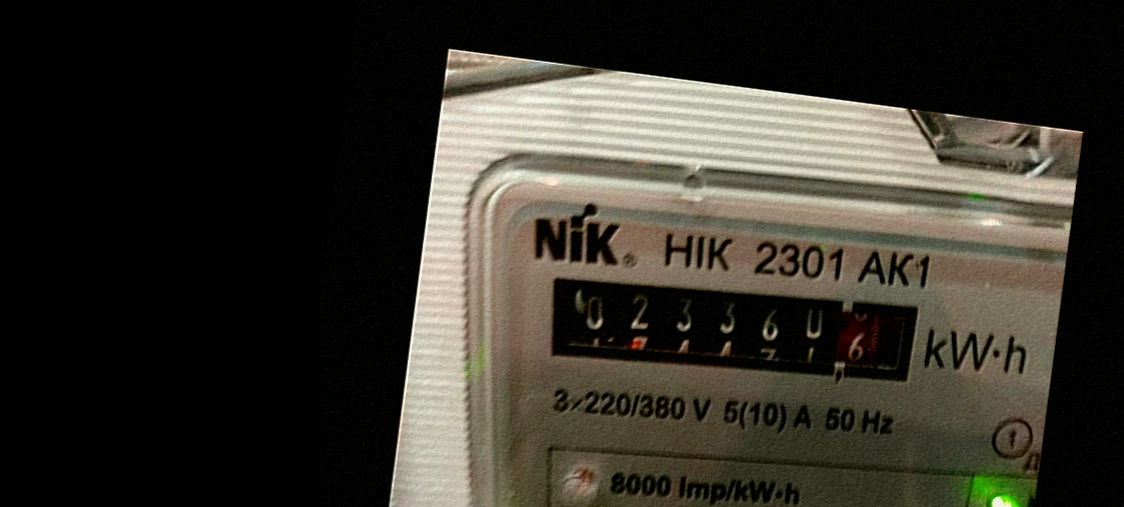0: (582, 289, 612, 334), (802, 303, 830, 342)
2: (626, 289, 657, 332)
3: (673, 293, 699, 335), (715, 297, 742, 337)
6: (757, 302, 788, 346), (847, 328, 872, 366)
screen: (523, 244, 936, 412)
